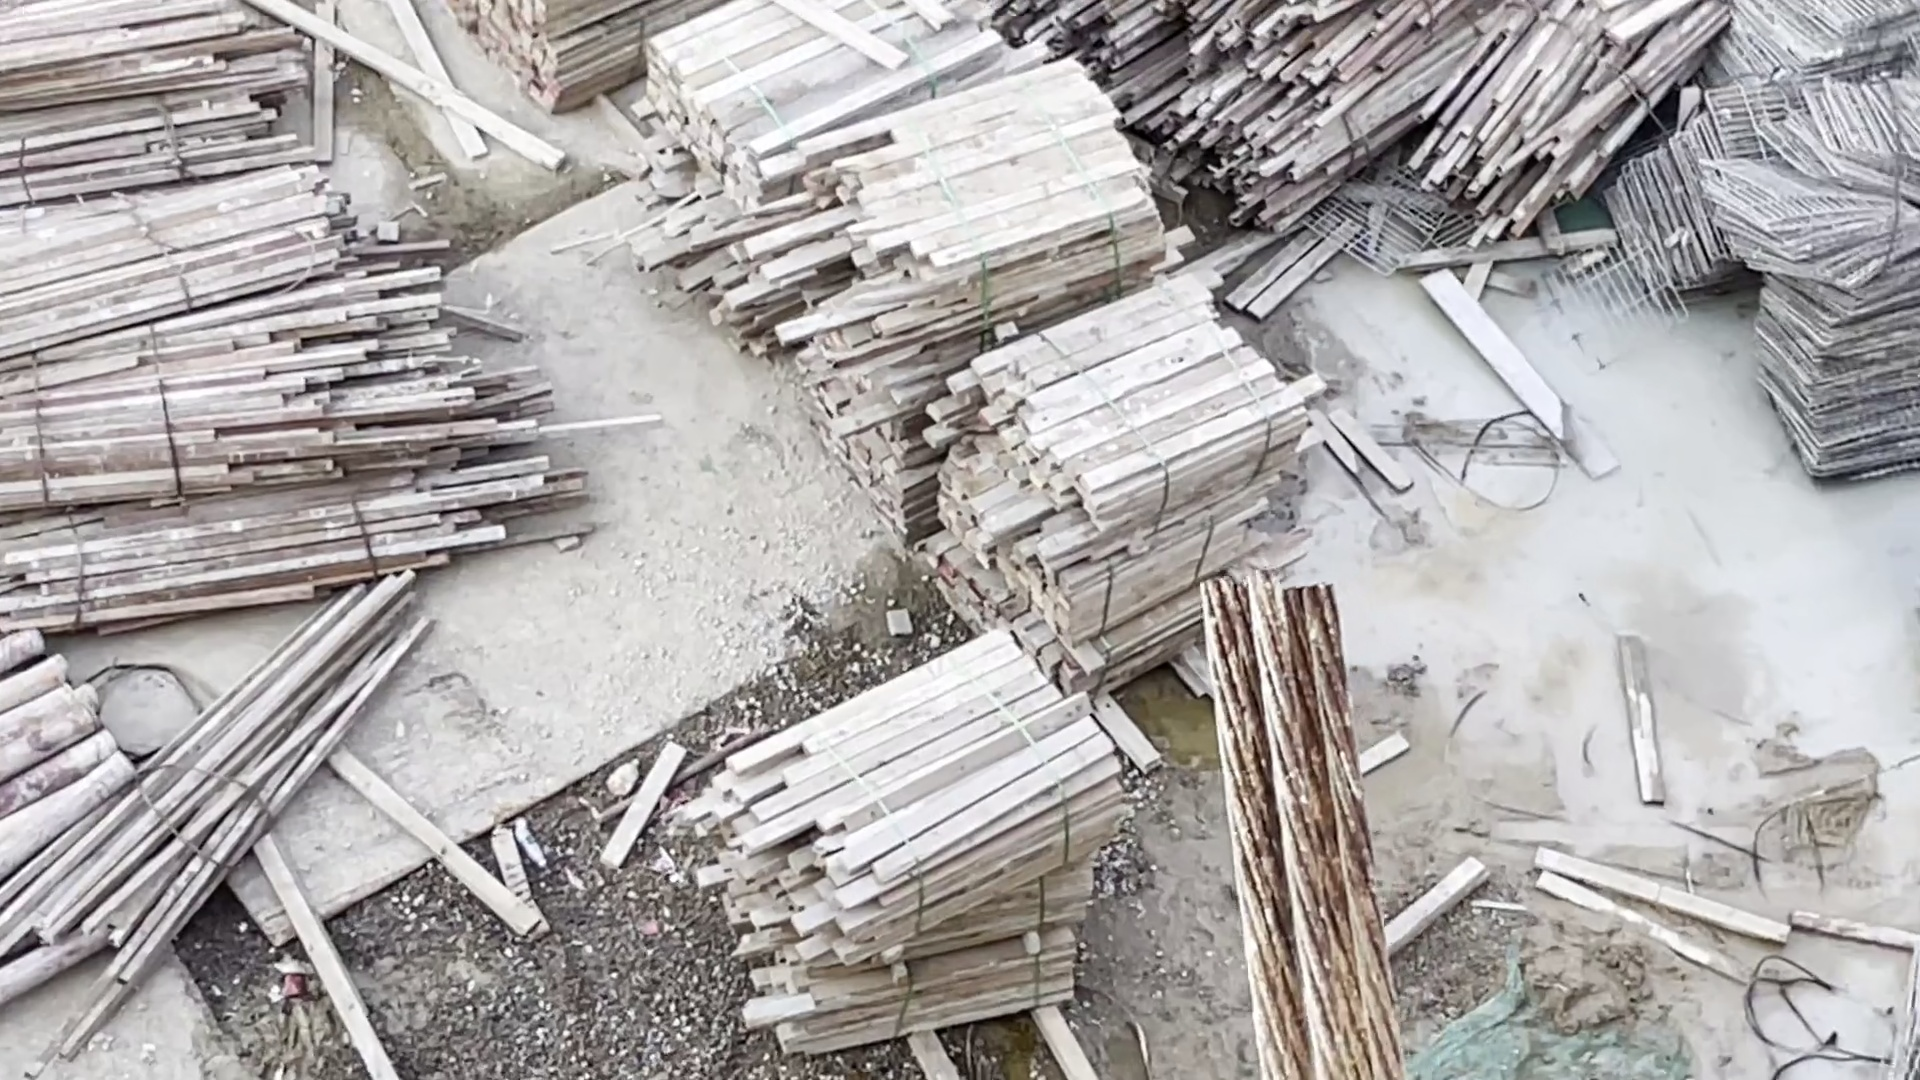wood: (1, 1, 504, 576), (628, 17, 1150, 464), (928, 342, 1358, 703), (667, 702, 1113, 1029), (1112, 1, 1629, 235)
